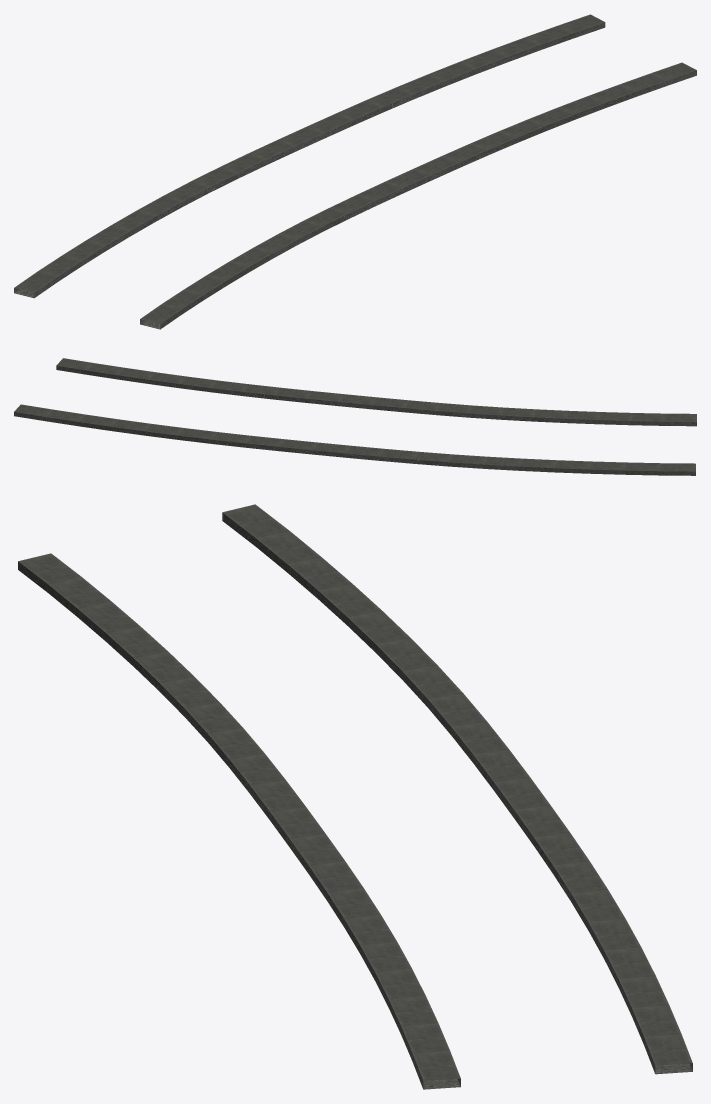
The model's file is SM_SideWalk_02.fbx.
The picture shows the model from 3 angles, top to bottom: view 1: azimuth 30°, elevation 25°; view 2: azimuth 150°, elevation 25°; view 3: azimuth 270°, elevation 25°; orthographic projection. The views are drawn at different scales.
Visible parts, largest first — view 1: SM_SideWalk_02; view 2: SM_SideWalk_02; view 3: SM_SideWalk_02.
Boxes of the visible parts, bbox=[...] form: SM_SideWalk_02: bbox=[14, 14, 696, 329]; SM_SideWalk_02: bbox=[14, 358, 696, 475]; SM_SideWalk_02: bbox=[18, 504, 692, 1089].
Size of the model in its own units: 10751 by 5317 by 75.12.
Materials: 1 (1 with a texture image).
